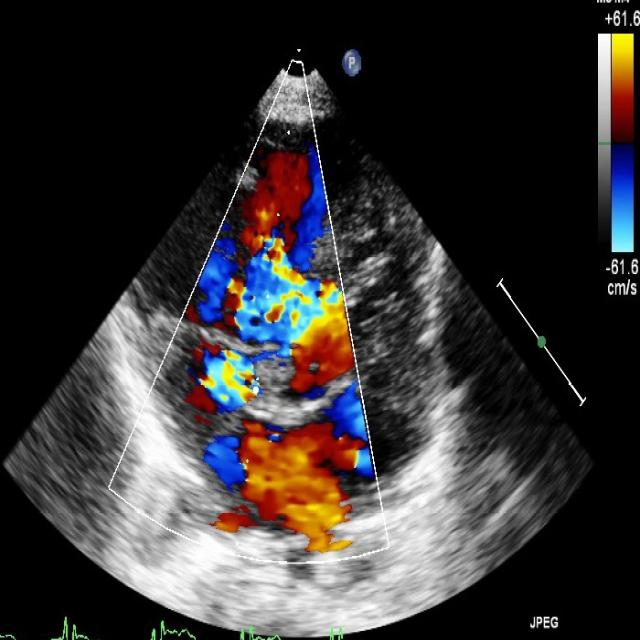VSDType2: (228, 237, 354, 393)
